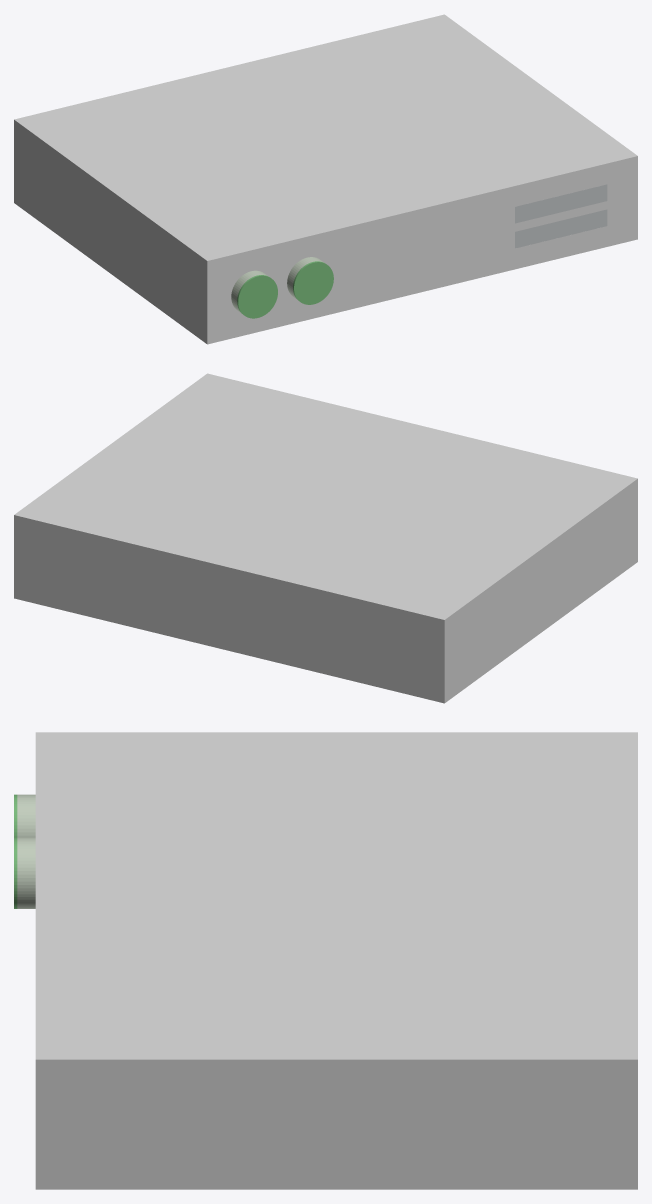
The model's file is 42-Server.glb.
The picture shows the model from 3 angles, top to bottom: view 1: azimuth 30°, elevation 25°; view 2: azimuth 150°, elevation 25°; view 3: azimuth 270°, elevation 25°; orthographic projection. The views are drawn at different scales.
Parts seen in each view (by area): view 1: Mesh_Mesh_head_geo.001_lambert2SG.001; view 2: Mesh_Mesh_head_geo.001_lambert2SG.001; view 3: Mesh_Mesh_head_geo.001_lambert2SG.001.
Boxes of the visible parts, x1,y1,x2,y2 form: Mesh_Mesh_head_geo.001_lambert2SG.001: (14, 14, 637, 344); Mesh_Mesh_head_geo.001_lambert2SG.001: (14, 373, 637, 703); Mesh_Mesh_head_geo.001_lambert2SG.001: (14, 732, 637, 1189).
Bounding box in the file's own units: 54 × 10 × 43.5.
